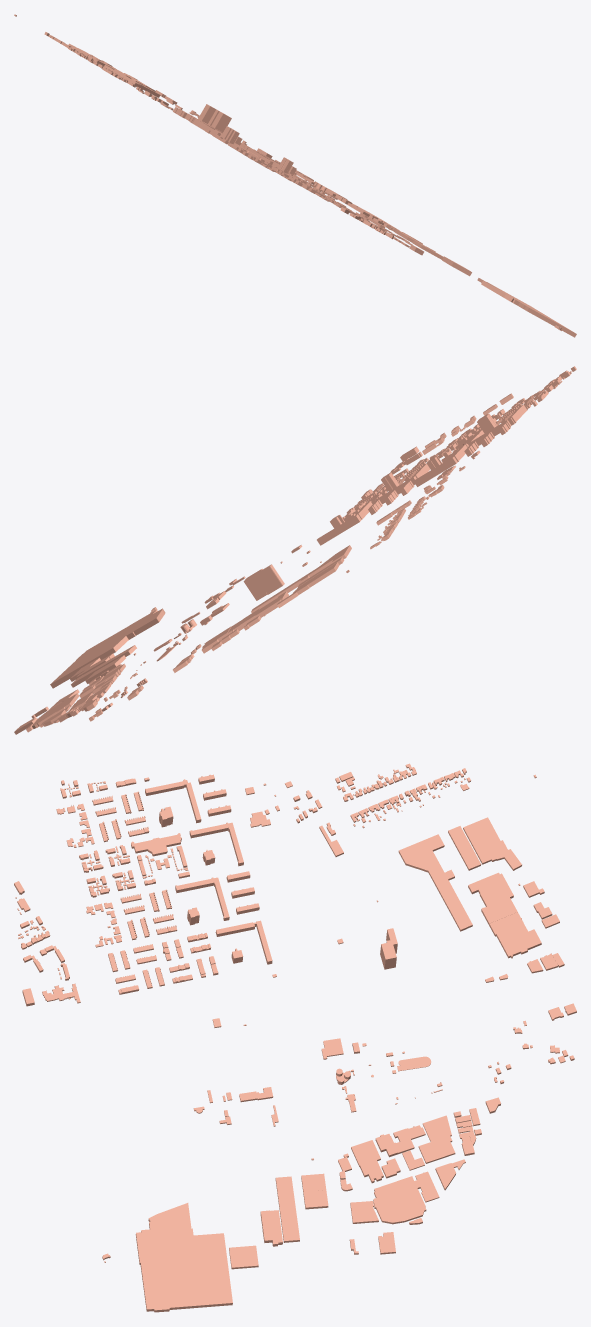
3 renders of one model, top to bottom at view 1: azimuth 30°, elevation 25°; view 2: azimuth 150°, elevation 25°; view 3: azimuth 270°, elevation 25°, orthographic. The views are drawn at different scales.
Size of the model in its own units: 1120 by 819 by 1243.
